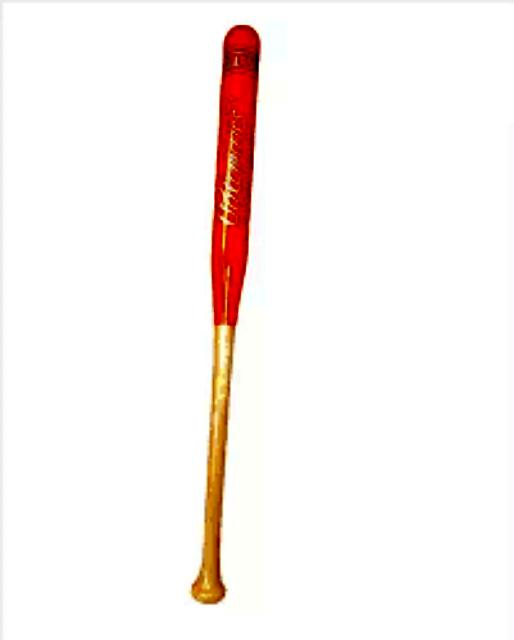baseball bat: (190, 23, 258, 604)
